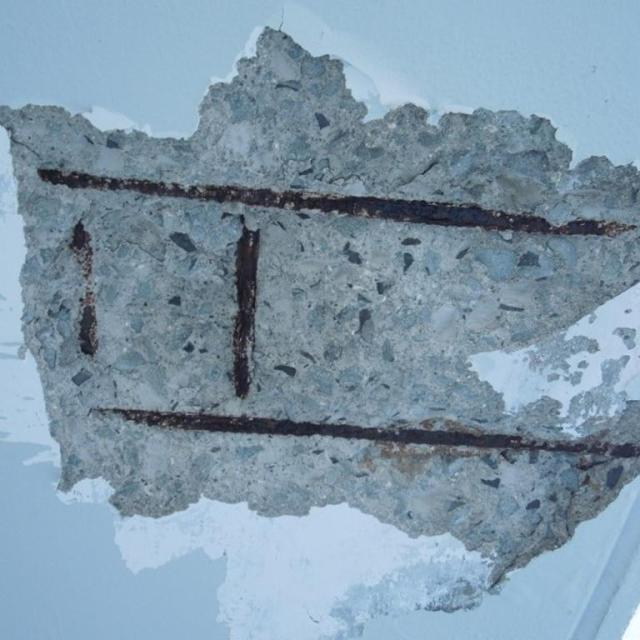Rebar: (7, 24, 640, 591)
